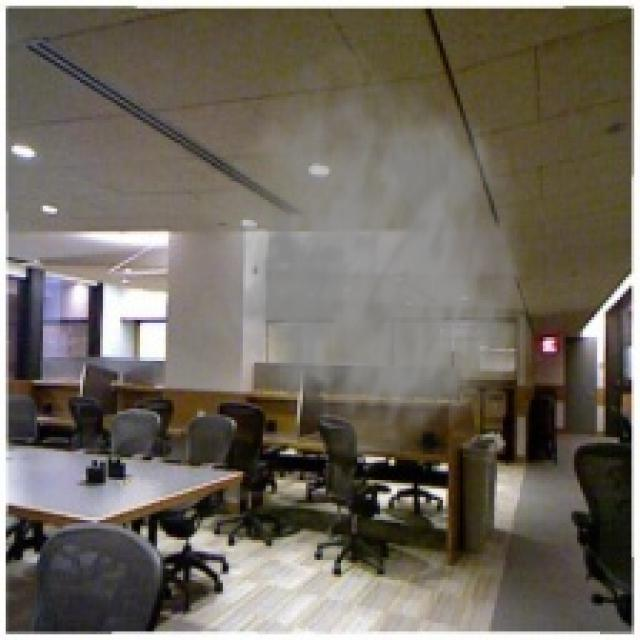smoke: (192, 40, 537, 463)
